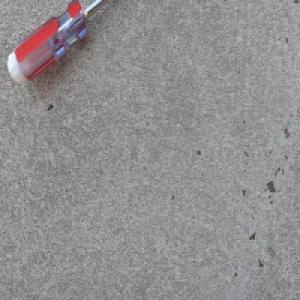Screwdriver: (5, 0, 112, 88)
